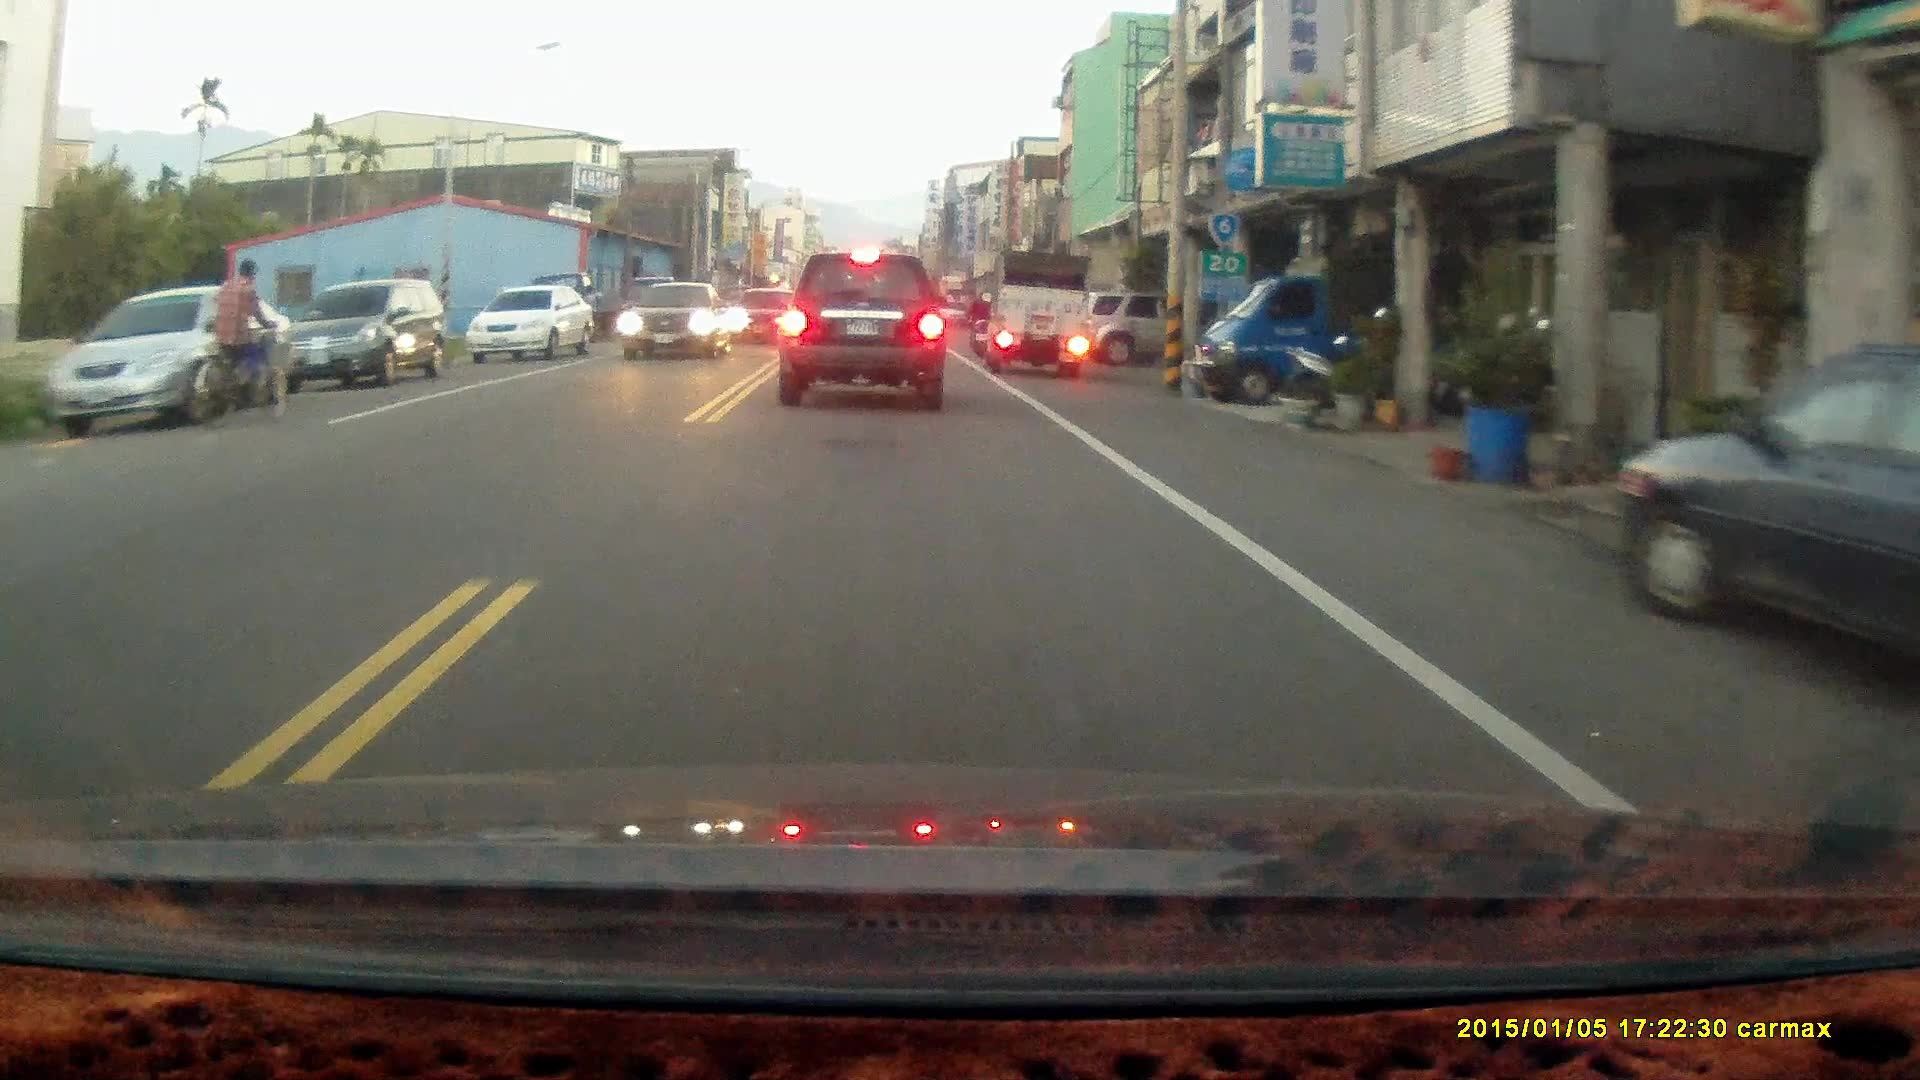rider: (189, 255, 289, 428), (962, 286, 998, 361)
vehicle: (1612, 342, 1920, 710), (45, 291, 283, 441), (1200, 235, 1401, 410), (778, 251, 948, 411), (276, 279, 455, 396), (988, 252, 1092, 380), (470, 287, 602, 368), (625, 282, 730, 362)
